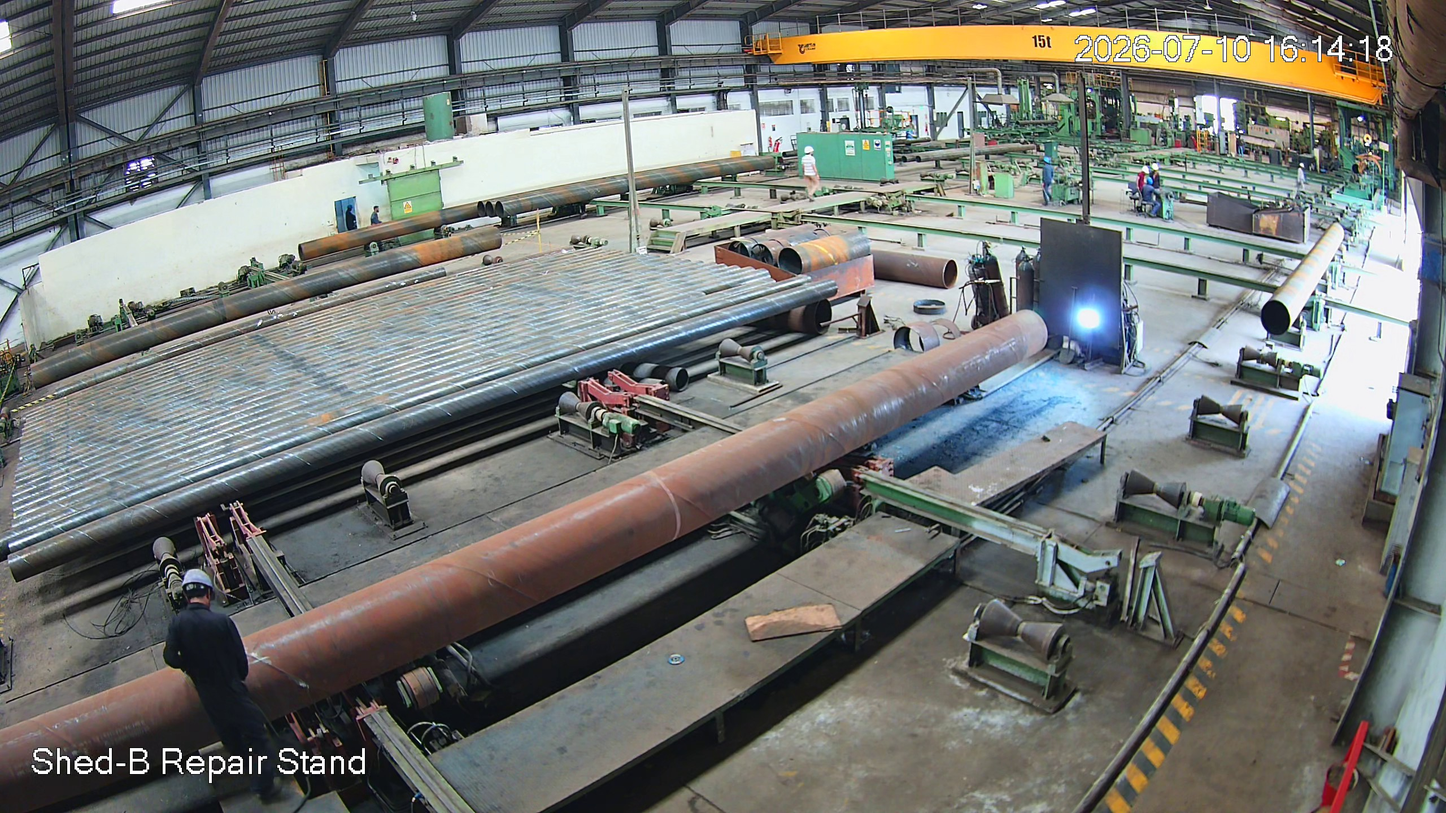Helmet: (175, 567, 238, 629), (802, 145, 818, 163), (1144, 177, 1156, 187), (1151, 161, 1160, 174), (1141, 164, 1150, 176)
Person: (156, 570, 312, 813), (799, 147, 821, 204), (1141, 177, 1161, 216), (1137, 165, 1149, 196), (1150, 163, 1163, 189)
